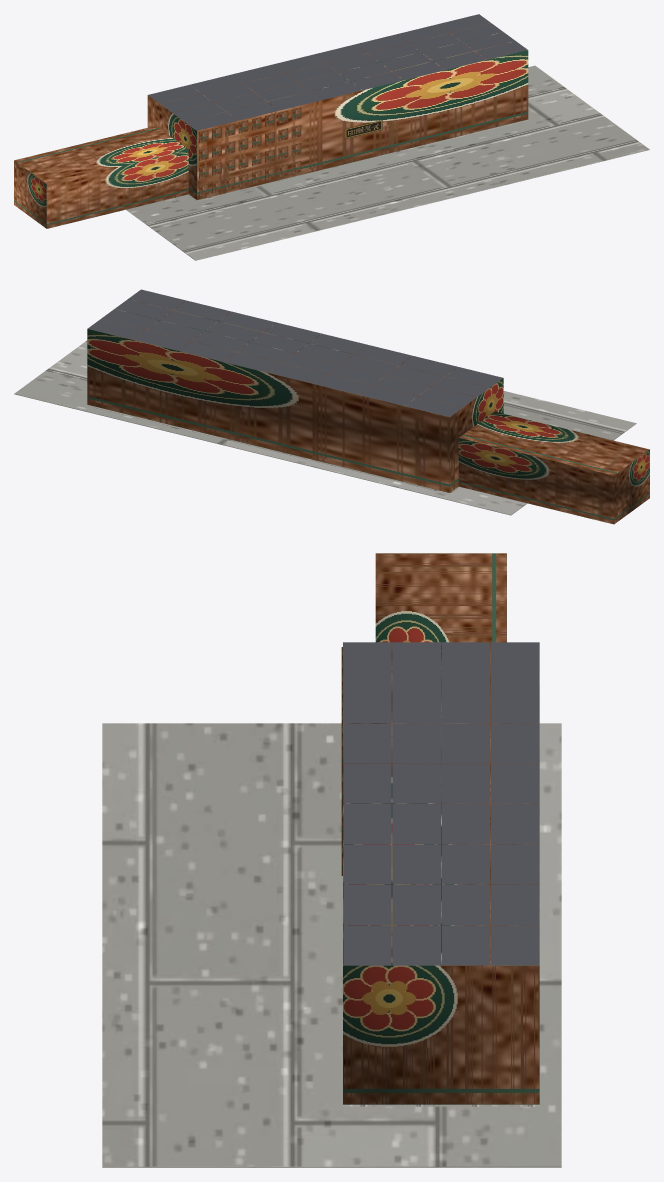
The picture shows the model from 3 angles, top to bottom: view 1: azimuth 30°, elevation 25°; view 2: azimuth 150°, elevation 25°; view 3: azimuth 270°, elevation 25°; orthographic projection. The views are drawn at different scales.
Parts seen in each view (by area): view 1: 11140_02_04549_031_02_L2__body, 11140_02_04549_031_01_L2__base, 11140_02_04549_031_03_L2__roof, 11140_02_04549_031_05_L2__openings, 11140_02_04549_031_04_L2__sign; view 2: 11140_02_04549_031_02_L2__body, 11140_02_04549_031_03_L2__roof, 11140_02_04549_031_01_L2__base; view 3: 11140_02_04549_031_01_L2__base, 11140_02_04549_031_03_L2__roof, 11140_02_04549_031_02_L2__body.
Part boxes in pixels (x1,y1,x2,y2): 11140_02_04549_031_02_L2__body: (14,23,528,228); 11140_02_04549_031_01_L2__base: (126,65,649,260); 11140_02_04549_031_03_L2__roof: (148,14,527,130); 11140_02_04549_031_05_L2__openings: (199,107,301,196); 11140_02_04549_031_04_L2__sign: (345,120,382,138); 11140_02_04549_031_02_L2__body: (87,299,649,524); 11140_02_04549_031_03_L2__roof: (88,289,502,416); 11140_02_04549_031_01_L2__base: (14,340,636,515); 11140_02_04549_031_01_L2__base: (102,723,561,1167); 11140_02_04549_031_03_L2__roof: (343,642,539,965); 11140_02_04549_031_02_L2__body: (343,553,539,1104).
Bounding box in the file's own units: 113 × 14.32 × 42.
5 materials, 5 textured.
